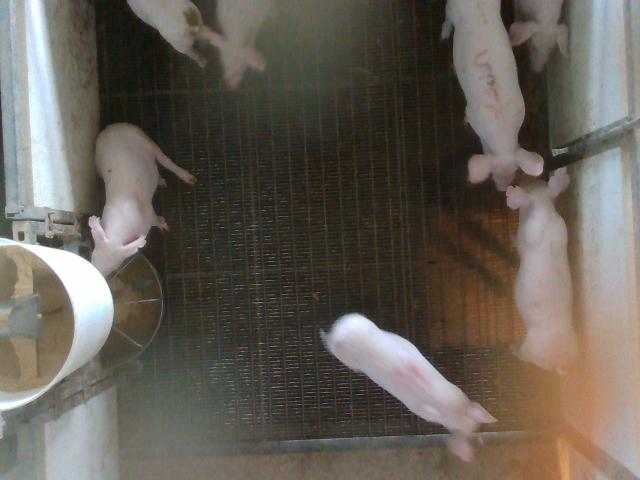pig-3: (441, 0, 544, 191)
pig-4: (321, 314, 495, 461)
